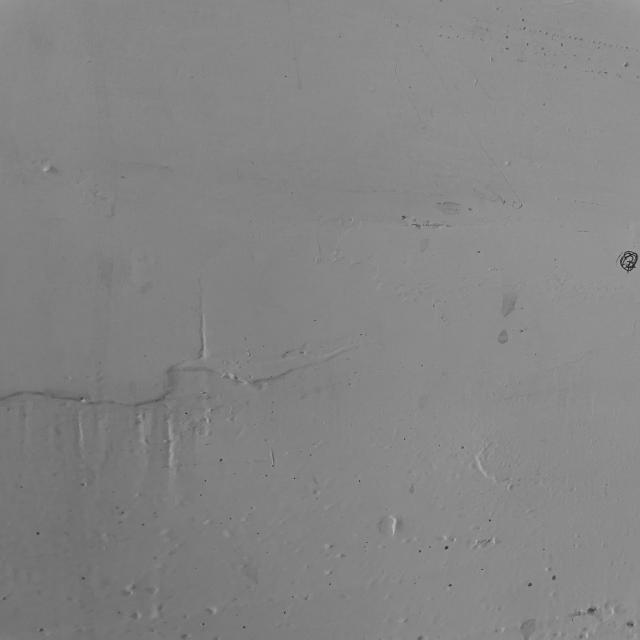rough and patchy surface: (10, 8, 633, 640)
